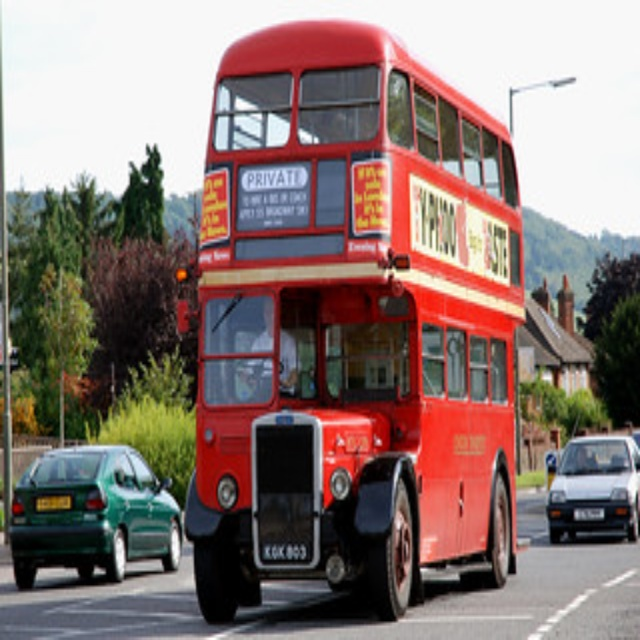Bus: (184, 18, 526, 625)
Car: (10, 443, 184, 586), (542, 431, 640, 541)
